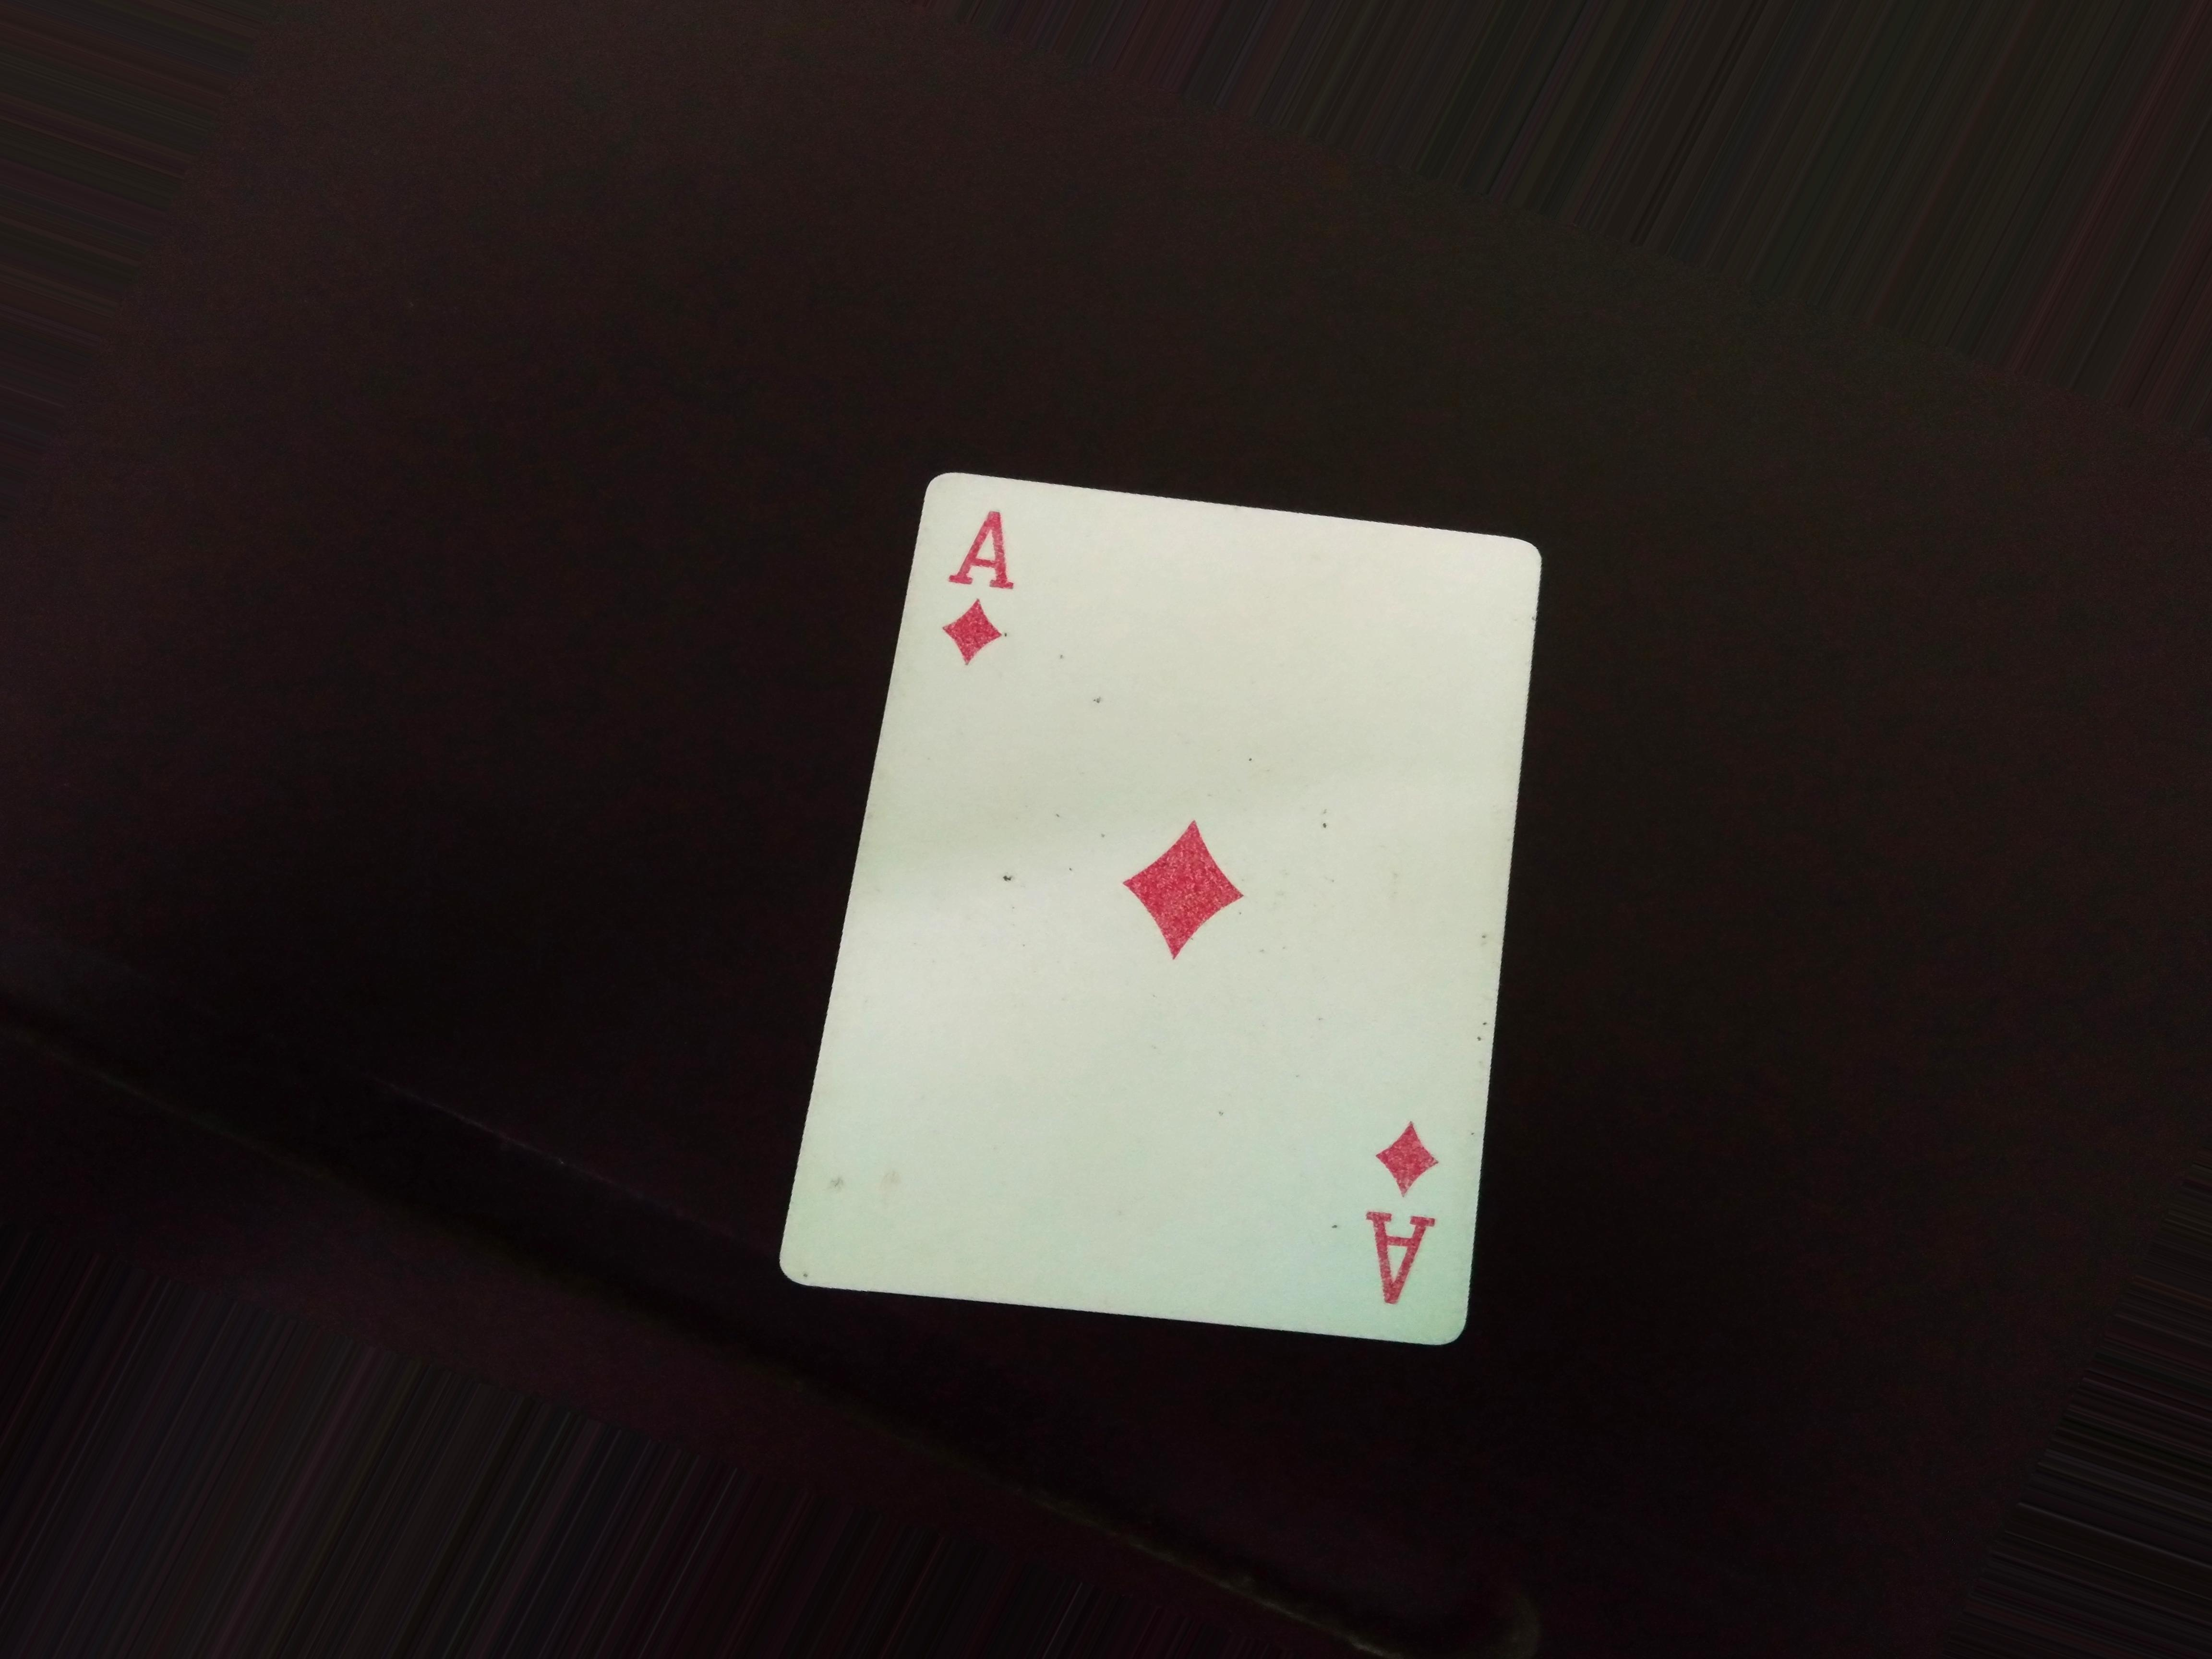AD: (930, 483, 1040, 699)
